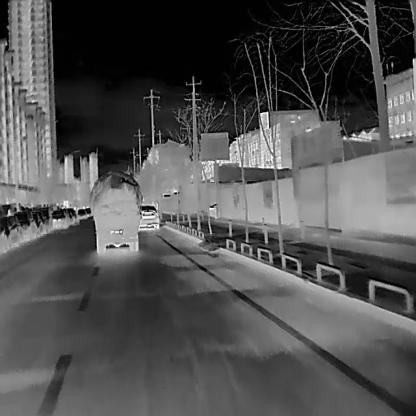car: (14, 209, 37, 243), (0, 214, 22, 249), (136, 203, 158, 230), (50, 208, 70, 228), (40, 206, 52, 233), (207, 202, 218, 218), (76, 208, 88, 219), (84, 206, 92, 216)
truck: (87, 167, 143, 254)
